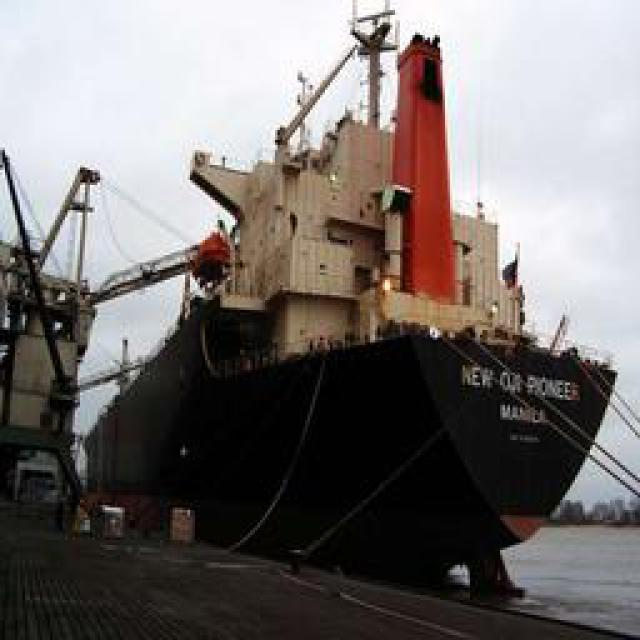Ship: (86, 1, 614, 599)
